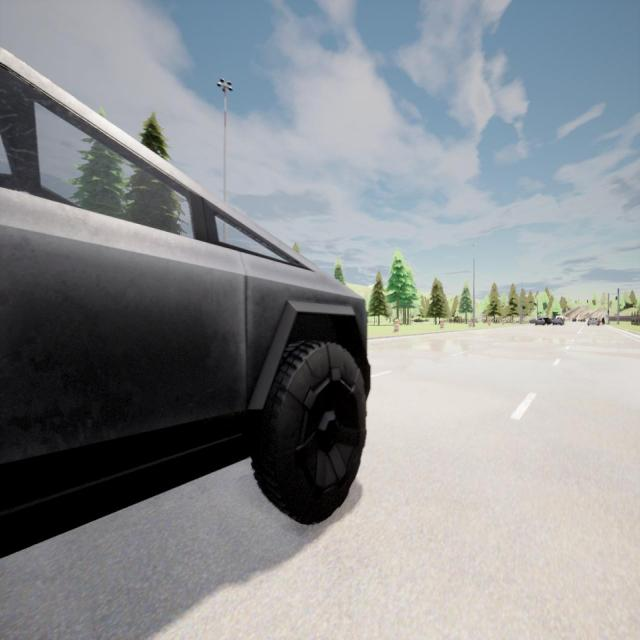Pedestrian: (601, 317, 605, 325), (598, 316, 600, 326)
Vehicle: (0, 49, 370, 556), (540, 316, 552, 326), (588, 317, 598, 326), (556, 315, 565, 325), (552, 318, 562, 326), (535, 318, 545, 326), (529, 318, 536, 324), (572, 317, 577, 322), (580, 318, 586, 322)
traffic_light: (616, 296, 617, 300), (587, 300, 588, 303), (576, 300, 576, 304)
